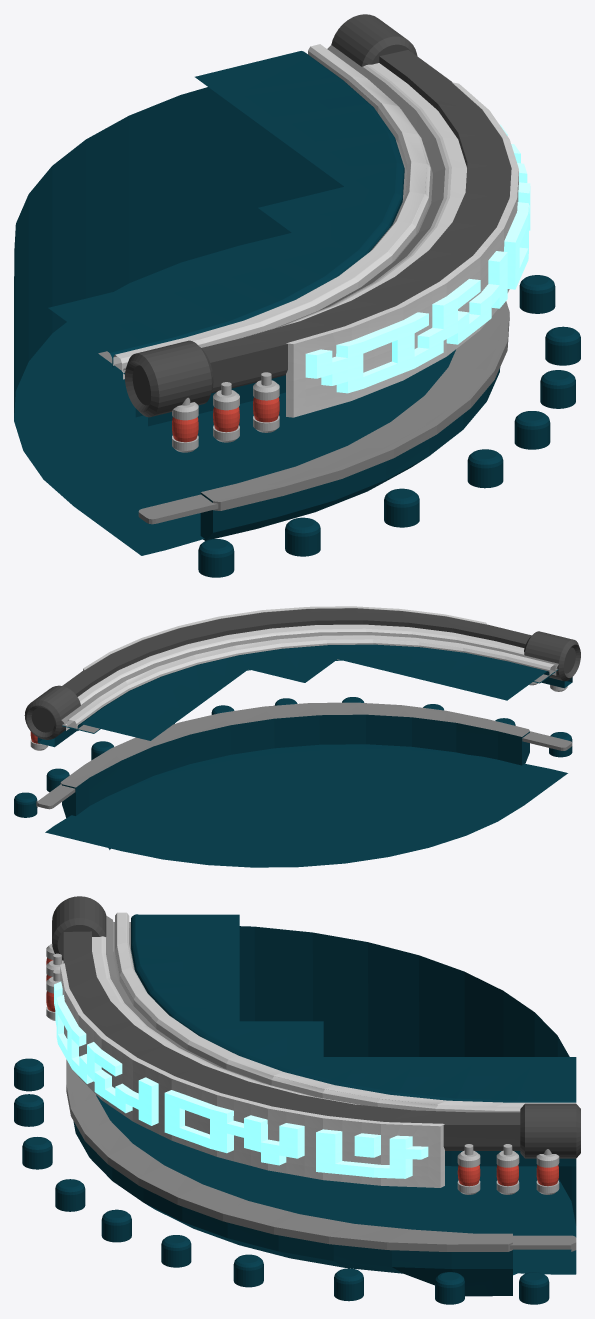
The model's file is MB_Restaurant_Corner_Bottom_Wide.fbx.
3 renders of one model, top to bottom at view 1: azimuth 30°, elevation 25°; view 2: azimuth 150°, elevation 25°; view 3: azimuth 270°, elevation 25°, orthographic. The views are drawn at different scales.
Parts seen in each view (by area): view 1: Cube.6040; view 2: Cube.6040; view 3: Cube.6040.
Part boxes in pixels (box(x1,y1,x2,y2)): Cube.6040: box(14, 14, 580, 577); Cube.6040: box(14, 606, 580, 867); Cube.6040: box(14, 896, 580, 1304).
Bounding box in the file's own units: 13.47 × 5.03 × 13.47.
